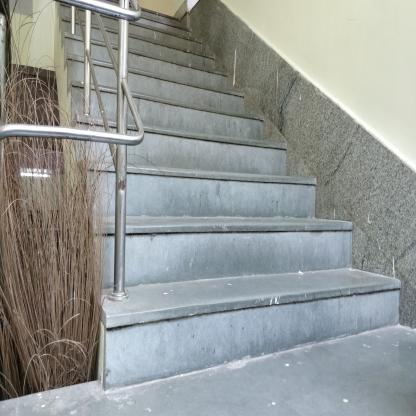stairs: (146, 109, 265, 391)
